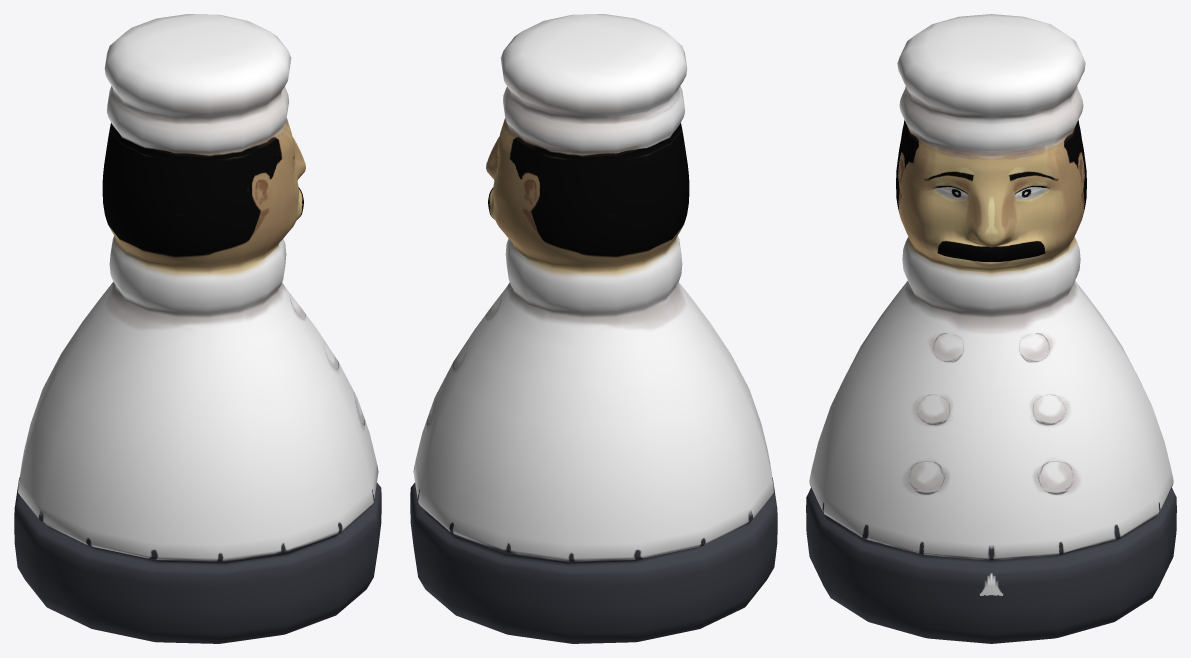
The model's file is chef.glb.
The picture shows the model from 3 angles, left to right: view 1: azimuth 30°, elevation 25°; view 2: azimuth 150°, elevation 25°; view 3: azimuth 270°, elevation 25°; orthographic projection.
Parts seen in each view (by area): view 1: Cube; view 2: Cube; view 3: Cube.
Boxes of the visible parts, bbox=[...] form: Cube: bbox=[14, 14, 381, 643]; Cube: bbox=[410, 14, 777, 643]; Cube: bbox=[806, 14, 1176, 643].
Size of the model in its own units: 1.8 by 2.91 by 1.8.
1 material, 1 textured.
